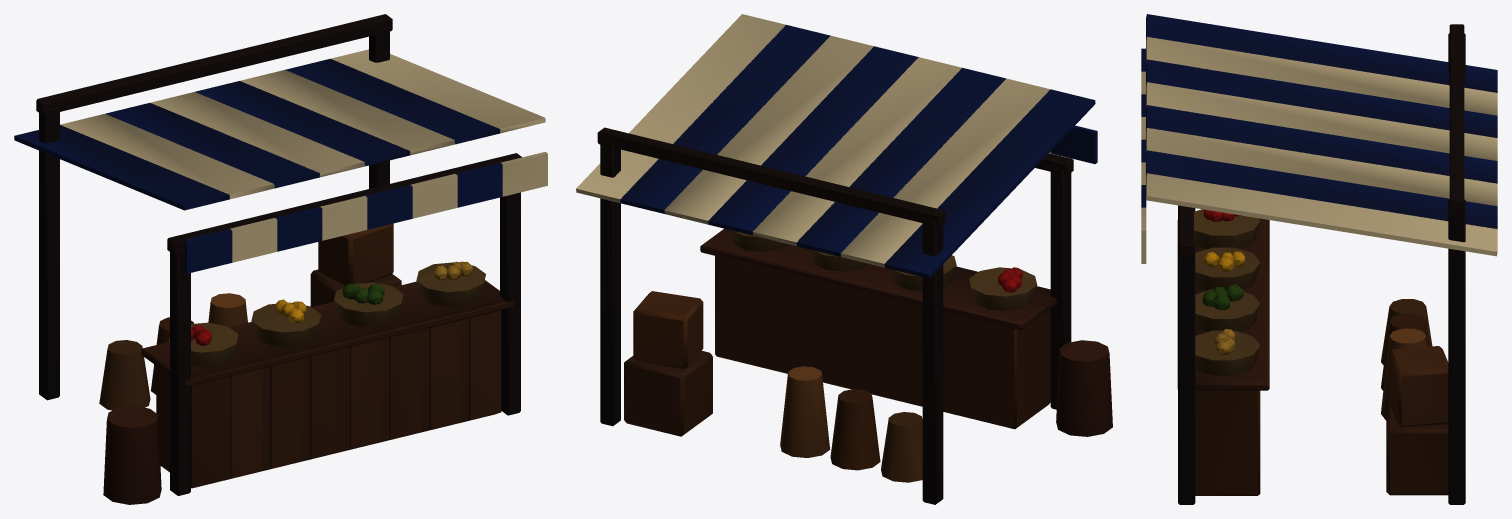
The model's file is Barraca4B.fbx.
The picture shows the model from 3 angles, left to right: view 1: azimuth 30°, elevation 25°; view 2: azimuth 150°, elevation 25°; view 3: azimuth 270°, elevation 25°; orthographic projection. The views are drawn at different scales.
Parts seen in each view (by area): view 1: Barraca4B; view 2: Barraca4B; view 3: Barraca4B.
Boxes of the visible parts, left/top/right/bottom form: Barraca4B: left=14, top=14, right=547, bottom=504; Barraca4B: left=576, top=14, right=1112, bottom=504; Barraca4B: left=1141, top=14, right=1497, bottom=504.
Bounding box in the file's own units: 3.94 × 2.82 × 2.9.
